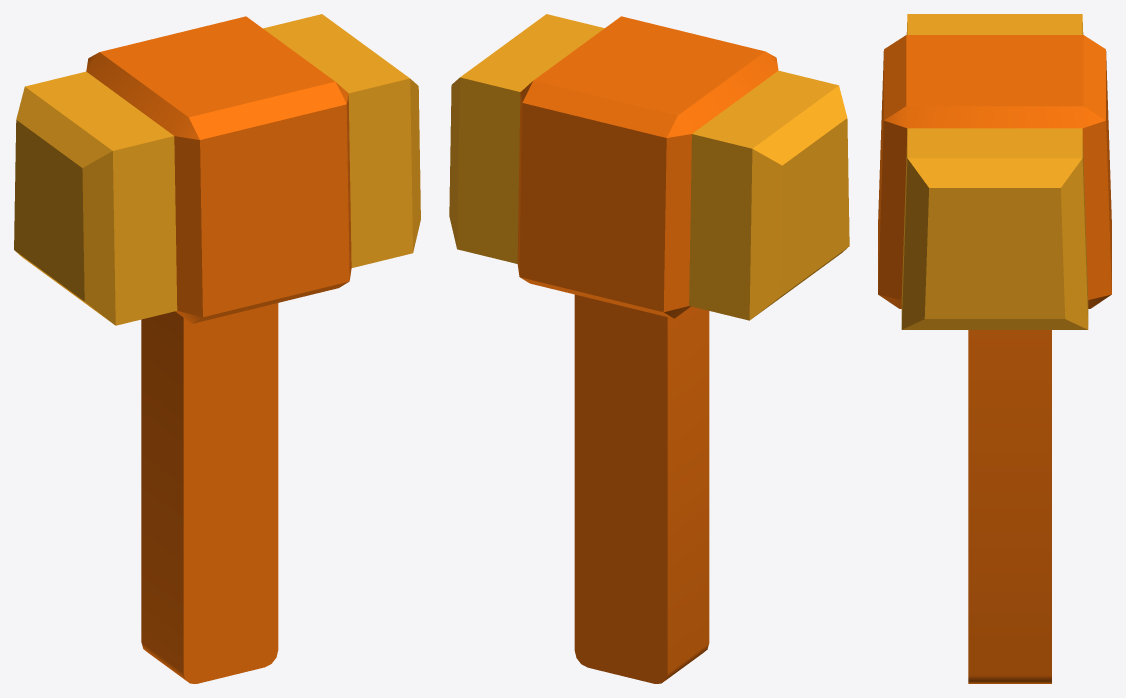
The model's file is Ground_Hammer_01.fbx.
3 views of the same model, side by side, from view 1: azimuth 30°, elevation 25°; view 2: azimuth 150°, elevation 25°; view 3: azimuth 270°, elevation 25° (orthographic).
Parts seen in each view (by area): view 1: Obstacle_Ground_Hammer_01; view 2: Obstacle_Ground_Hammer_01; view 3: Obstacle_Ground_Hammer_01.
Part boxes in pixels (<box>): Obstacle_Ground_Hammer_01: <box>14,14,420,683</box>; Obstacle_Ground_Hammer_01: <box>449,14,849,683</box>; Obstacle_Ground_Hammer_01: <box>878,14,1111,683</box>.
Size of the model in its own units: 160 by 273 by 97.06.
1 material, 1 textured.
